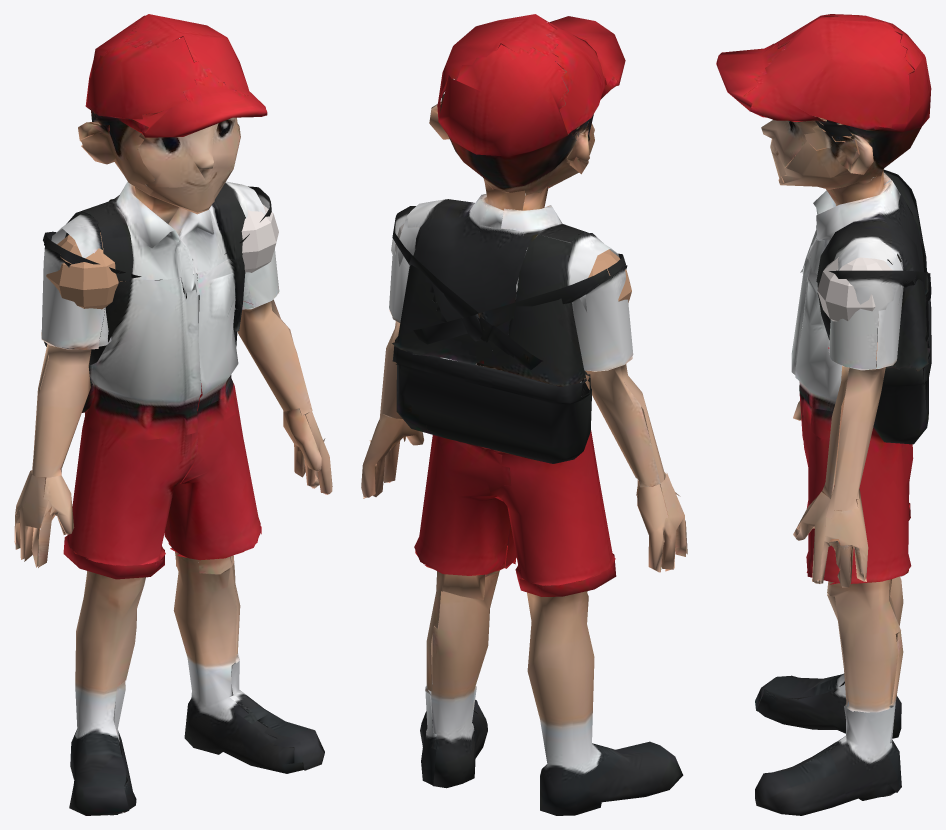
The model's file is npc_anak_sd.glb.
The picture shows the model from 3 angles, left to right: view 1: azimuth 30°, elevation 25°; view 2: azimuth 150°, elevation 25°; view 3: azimuth 270°, elevation 25°; orthographic projection. The views are drawn at different scales.
Visible parts, largest first — view 1: torso, leg_r, leg_l, head, arm_r, arm_l; view 2: torso, leg_r, head, leg_l, arm_r, arm_l; view 3: leg_l, head, torso, arm_l, leg_r, arm_r.
Boxes of the visible parts, x1,y1,x2,y2 form: torso: [44, 170, 278, 440]; leg_r: [63, 409, 191, 815]; leg_l: [164, 385, 324, 773]; head: [78, 14, 267, 187]; arm_r: [14, 231, 252, 567]; arm_l: [181, 186, 332, 494]; torso: [392, 148, 631, 463]; leg_r: [486, 432, 683, 815]; head: [429, 14, 625, 184]; leg_l: [414, 435, 516, 788]; arm_r: [413, 253, 687, 572]; arm_l: [361, 206, 542, 498]; leg_l: [755, 414, 913, 815]; head: [716, 14, 931, 177]; torso: [772, 129, 931, 444]; arm_l: [793, 270, 930, 587]; leg_r: [755, 410, 910, 738]; arm_r: [793, 169, 931, 420].
Size of the model in its own units: 0.5461 by 1.28 by 0.3379.
1 material, 1 textured.
